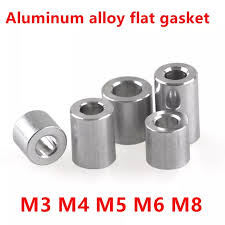No thread: (103, 77, 145, 100), (73, 99, 107, 123), (31, 134, 62, 160), (157, 63, 191, 83), (151, 113, 184, 131)
